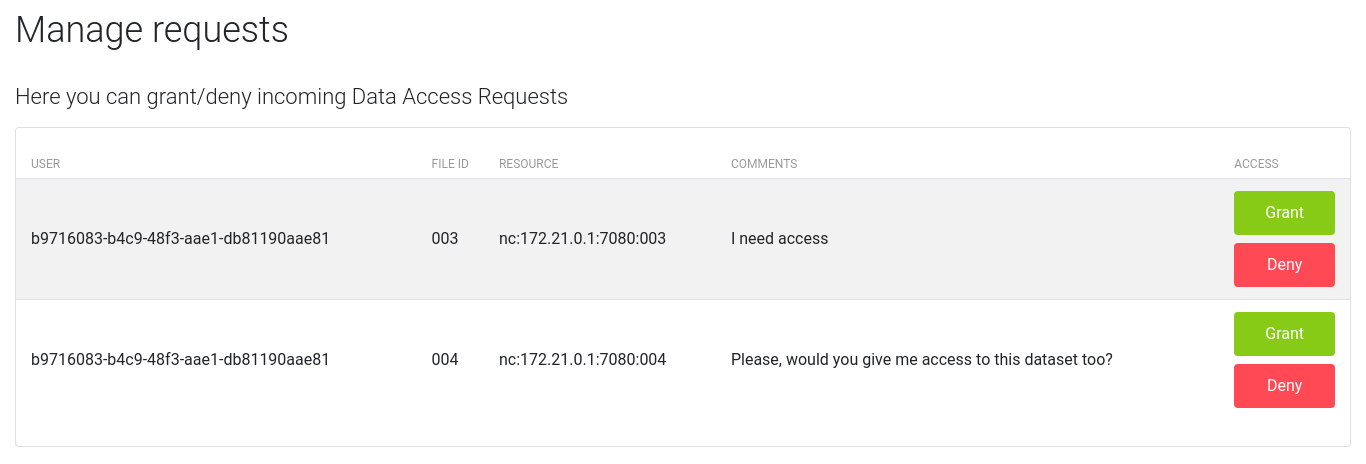
Scenario: Manage requests page › After accepting a request by clicking the "Grant" button, the row is removed from table
Expected: the number of buttons "Deny" is 2, left=1234, top=243, right=1335, bottom=287; left=1234, top=364, right=1335, bottom=408
// We accept a request by clicking the "Grant" button for one of the rows.
Click the button "Grant" in the row of "nc:172.21.0.1:7080:003" at (1285, 213), box left=1234, top=191, right=1335, bottom=235
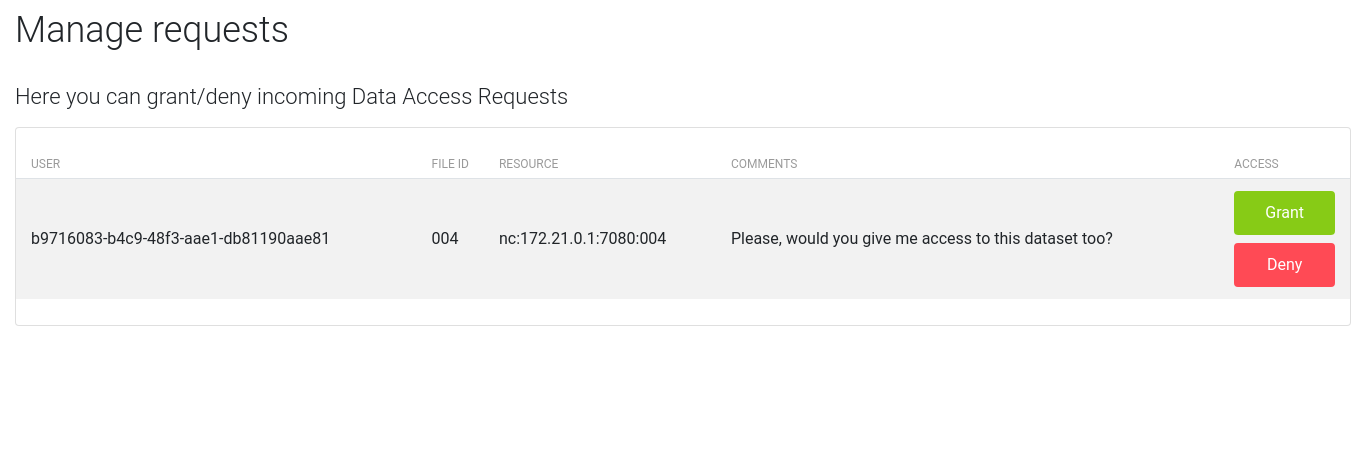
Expected: the number of buttons "Grant" is 1, left=1234, top=191, right=1335, bottom=235
Now the number of buttons "Deny" is 1, box left=1234, top=243, right=1335, bottom=287
